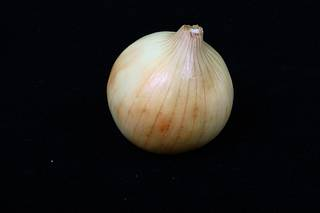onion rotten: (98, 7, 257, 167)
